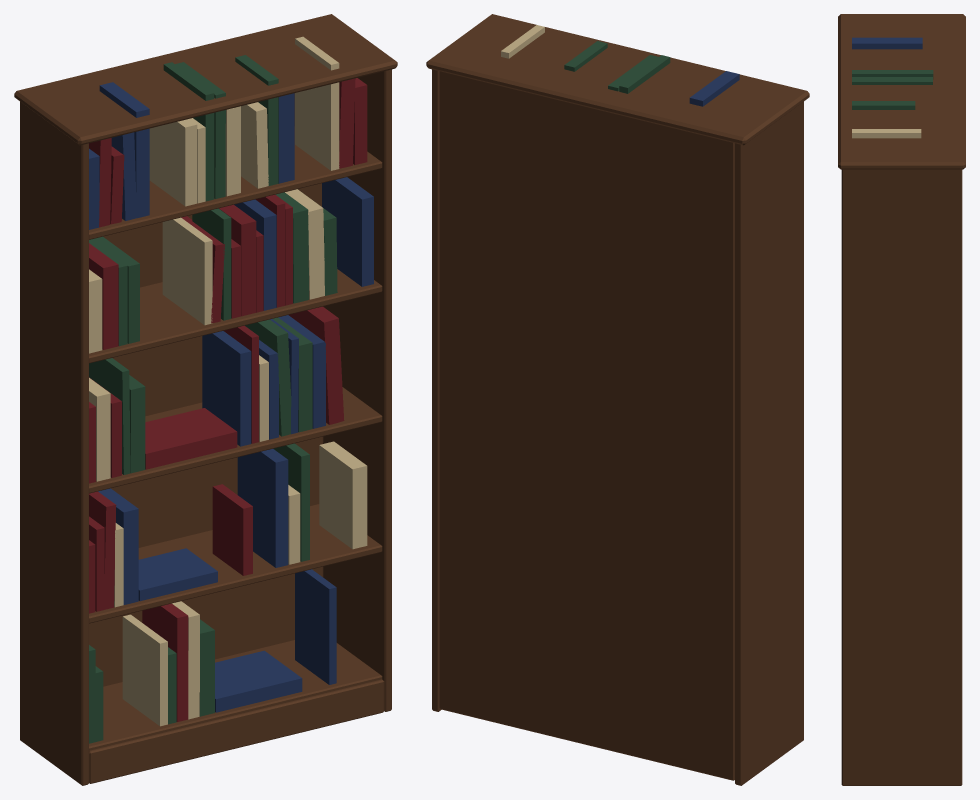
The model's file is Estante.fbx.
The picture shows the model from 3 angles, left to right: view 1: azimuth 30°, elevation 25°; view 2: azimuth 150°, elevation 25°; view 3: azimuth 270°, elevation 25°; orthographic projection. The views are drawn at different scales.
Visible parts, largest first — view 1: Estante; view 2: Estante; view 3: Estante.
Boxes of the visible parts, <box> form: Estante: <box>14,14,397,785</box>; Estante: <box>426,14,809,785</box>; Estante: <box>838,14,965,785</box>.
Size of the model in its own units: 1.03 by 2.02 by 0.37.
